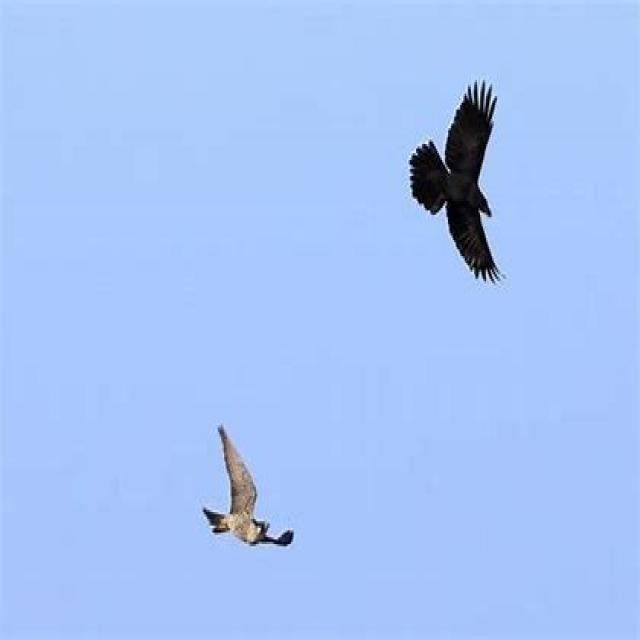crow: (409, 77, 511, 293)
